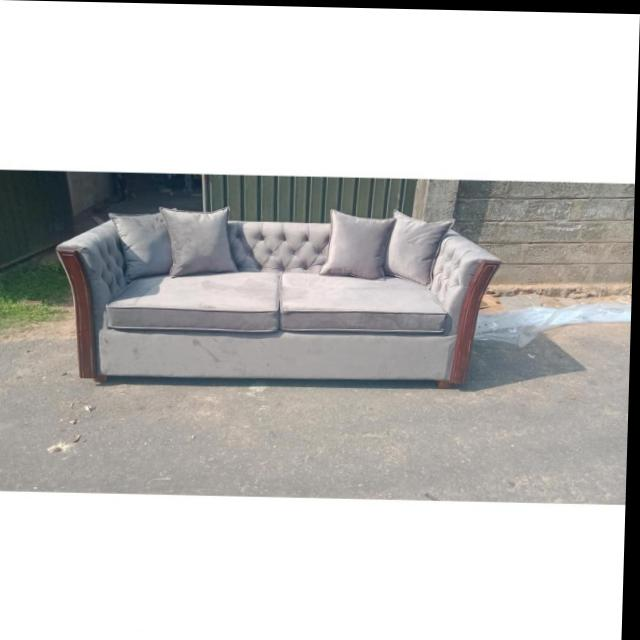Sofa: (56, 205, 503, 395)
